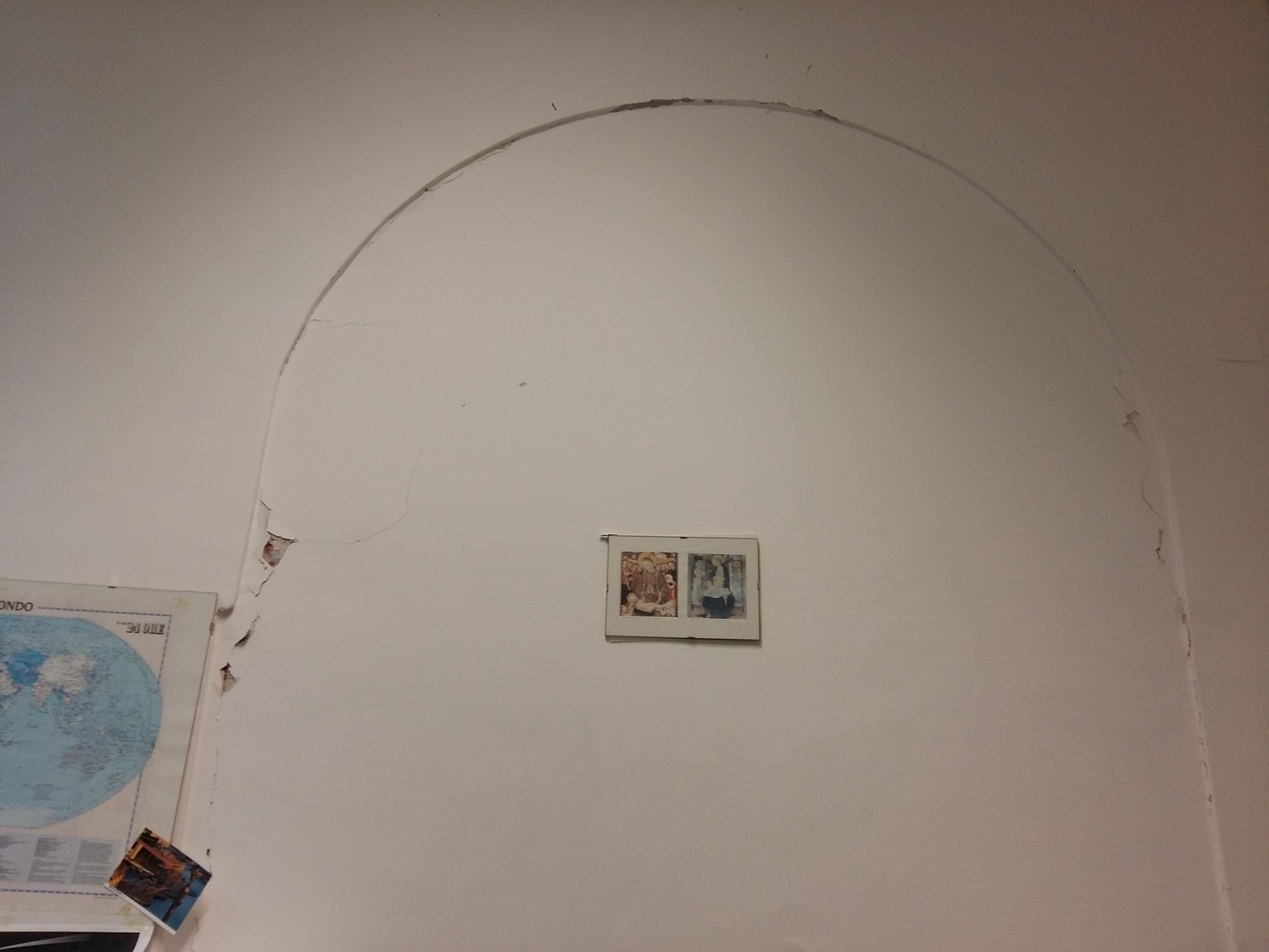Crack: (1088, 332, 1248, 940), (289, 353, 561, 561), (196, 485, 288, 863), (358, 119, 539, 253)
